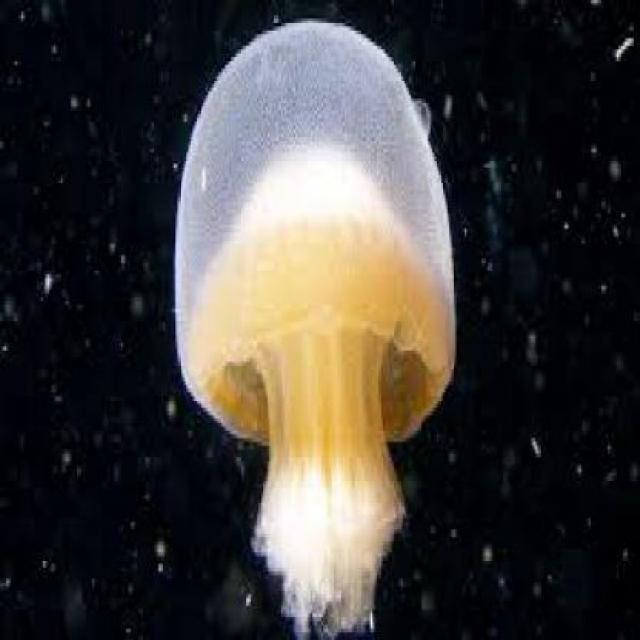Jellyfish: (170, 11, 458, 636)
